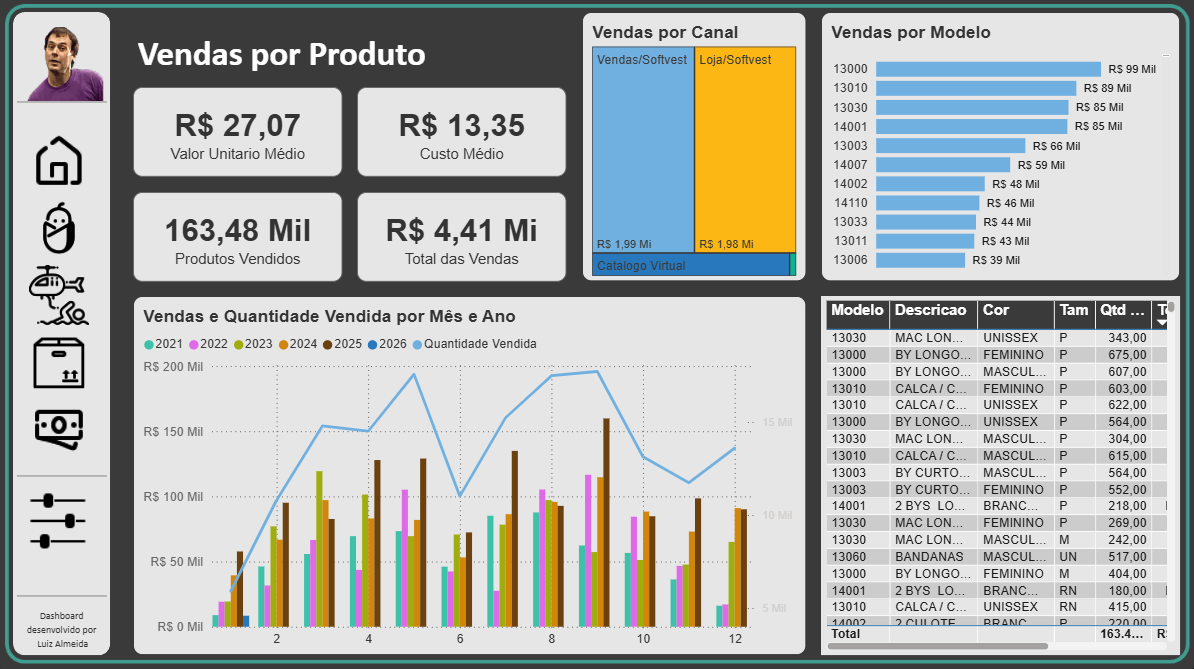

Layout of this report page (visuals, bound fields, positions):
{"tool":"powerbi","page":{"name":"Vendas Por Produto","canvas":[1280,720],"ordinal":3},"visuals":[{"type":"shape","title":"MenuEsquerdo","box":[16,16,104,688],"z":0,"group":"g3"},{"type":"lineClusteredColumnComboChart","fields":{"Category":["VendasUnpivot.Mês"],"Y":["Sum(VendasUnpivot.Preço Total Venda)"],"Y2":["Sum(VendasUnpivot.Quantidade)"],"Series":["VendasUnpivot.Ano"]},"box":[144,320,720,384],"z":0},{"type":"image","title":"Imagem Filtro","box":[32,528,64,64],"z":0,"group":"g2"},{"type":"clusteredBarChart","fields":{"Y":["Sum(VendasUnpivot.Preço Total Venda)"],"Category":["VendasUnpivot.Modelo"]},"box":[880,16,384,288],"z":1000},{"type":"actionButton","title":"Botão Filtro VP","box":[32,528,64,64],"z":1000,"group":"g2"},{"type":"textbox","title":"Creditos","box":[16,648,104,56],"z":1000,"group":"g3"},{"type":"treemap","title":"Vendas por Canal","fields":{"Group":["VendasUnpivot.OrigemPedido"],"Values":["Sum(VendasUnpivot.Preço Total Venda)"]},"box":[624,16,240,288],"z":2000},{"type":"image","title":"Logo","box":[16,32,112,80],"z":2000,"group":"g3"},{"type":"group","id":"g1","title":"Cards","box":[144,96,464,208],"z":2500},{"type":"textbox","title":"Titulo Dash Geral","box":[144,32,448,64],"z":3000},{"type":"image","title":"BtnBancos","box":[32.9,430.9,64,64],"z":3000,"group":"g3"},{"type":"tableEx","fields":{"Values":["VendasUnpivot.Modelo","VendasUnpivot.Descricao","VendasUnpivot.NomeCor","VendasUnpivot.Tam","Sum(VendasUnpivot.Quantidade)","Sum(VendasUnpivot.Preço Total Venda)","Sum(VendasUnpivot.Preço Total Custo)"]},"box":[880,320,384,384],"z":4000},{"type":"image","title":"BtnBancos","box":[32.9,430.9,64,64],"z":4000,"group":"g3"},{"type":"card","fields":{"Values":["Sum(VendasUnpivot.Preço Total Venda)"]},"box":[384,208,224,96],"z":5000,"group":"g1"},{"type":"image","title":"BtnProdutos","box":[32.9,358.9,64,64],"z":5000,"group":"g3"},{"type":"card","fields":{"Values":["Sum(VendasUnpivot.Quantidade)"]},"box":[144,208,224,96],"z":6000,"group":"g1"},{"type":"image","title":"BtnProdutos","box":[32.9,358.9,64,64],"z":6000,"group":"g3"},{"type":"card","fields":{"Values":["VendasUnpivot.Custo Médio"]},"box":[384,96,224,96],"z":7000,"group":"g1"},{"type":"group","id":"g2","title":"Btn FiltroVP","box":[32,528,64,64],"z":7000,"group":"g3"},{"type":"card","fields":{"Values":["VendasUnpivot.Valor Unitario Médio"]},"box":[144,96,224,96],"z":8000,"group":"g1"},{"type":"image","title":"BtnVisaoGeral","box":[32.9,142.9,64,64],"z":8000,"group":"g3"},{"type":"image","title":"BtnVisaoGeral","box":[32.9,142.9,64,64],"z":9000,"group":"g3"},{"type":"image","title":"BtnClientes","box":[32.9,214.9,64,64],"z":10000,"group":"g3"},{"type":"group","id":"g3","title":"MenuEsquerdoVP","box":[16,16,112,688],"z":11000},{"type":"image","title":"BtnClientes","box":[32.9,214.9,64,64],"z":11000,"group":"g3"},{"type":"image","title":"BtnResgate","box":[32.9,286.9,64,64],"z":12000,"group":"g3"},{"type":"image","title":"BtnResgate","box":[32.9,286.9,64,64],"z":13000,"group":"g3"},{"type":"shape","title":"Div","box":[20,496,96,32],"z":14000,"group":"g3"},{"type":"shape","title":"Div","box":[20,624,96,32],"z":15000,"group":"g3"},{"type":"shape","title":"Div","box":[20,96,96,32],"z":16000,"group":"g3"}]}

Visuals, with their boxes in screenshot pixels (x1, y1, x2, y2), scaled from the page's 1280x720 canvas onto the 1194x669 screenshot:
"MenuEsquerdo" shape: 15,15,112,654
lineClusteredColumnComboChart - VendasUnpivot.Mês x Sum(VendasUnpivot.Preço Total Venda): 134,297,806,654
"Imagem Filtro" image: 30,491,90,550
clusteredBarChart - Sum(VendasUnpivot.Preço Total Venda) x VendasUnpivot.Modelo: 821,15,1179,282
"Botão Filtro VP" actionButton: 30,491,90,550
"Creditos" textbox: 15,602,112,654
"Vendas por Canal" treemap: 582,15,806,282
"Logo" image: 15,30,119,104
"Cards" group: 134,89,567,282
"Titulo Dash Geral" textbox: 134,30,552,89
"BtnBancos" image: 31,400,90,460
tableEx - VendasUnpivot.Modelo x VendasUnpivot.Descricao: 821,297,1179,654
"BtnBancos" image: 31,400,90,460
card - Sum(VendasUnpivot.Preço Total Venda): 358,193,567,282
"BtnProdutos" image: 31,333,90,393
card - Sum(VendasUnpivot.Quantidade): 134,193,343,282
"BtnProdutos" image: 31,333,90,393
card - VendasUnpivot.Custo Médio: 358,89,567,178
"Btn FiltroVP" group: 30,491,90,550
card - VendasUnpivot.Valor Unitario Médio: 134,89,343,178
"BtnVisaoGeral" image: 31,133,90,192
"BtnVisaoGeral" image: 31,133,90,192
"BtnClientes" image: 31,200,90,259
"MenuEsquerdoVP" group: 15,15,119,654
"BtnClientes" image: 31,200,90,259
"BtnResgate" image: 31,267,90,326
"BtnResgate" image: 31,267,90,326
"Div" shape: 19,461,108,491
"Div" shape: 19,580,108,610
"Div" shape: 19,89,108,119
